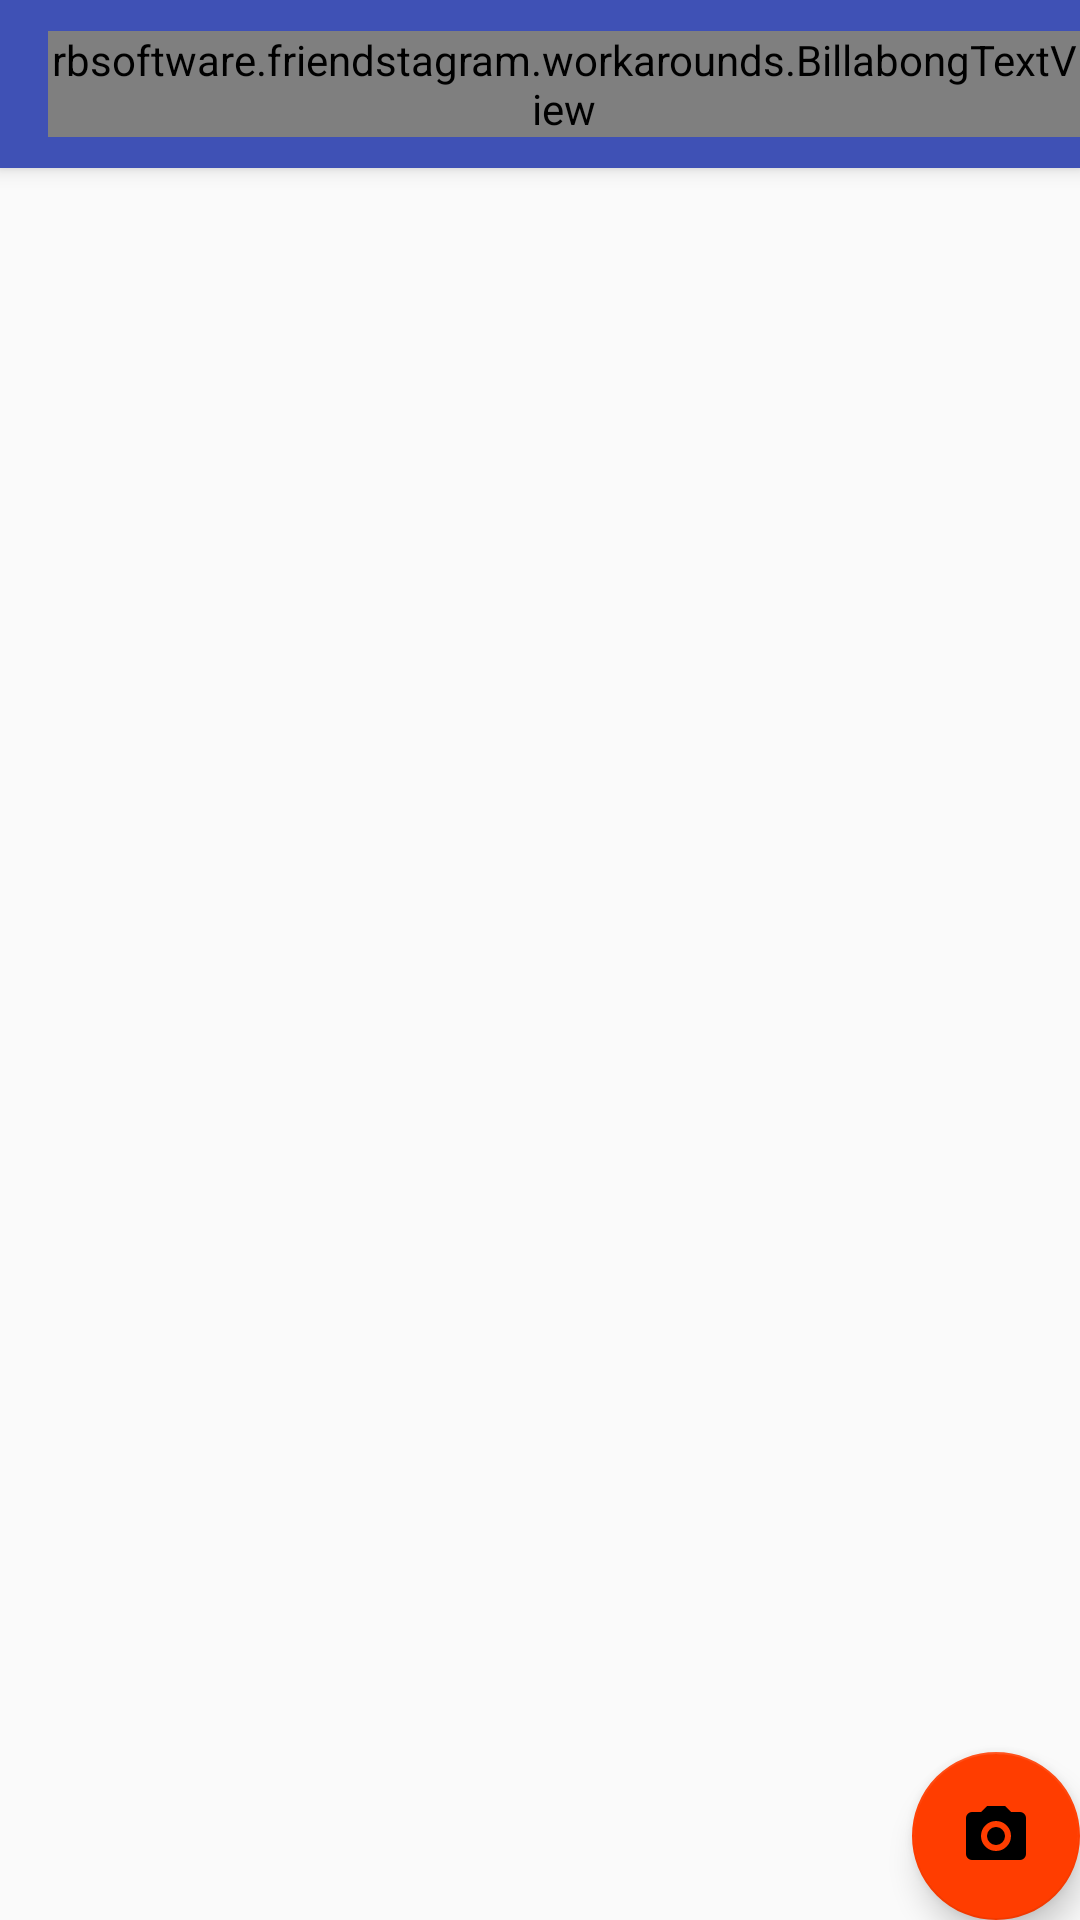

Screen size 1080×1920. Icon name, then its box in pixels as (x1, y1, x2, y2):
camera: (912, 1752, 1080, 1920)
